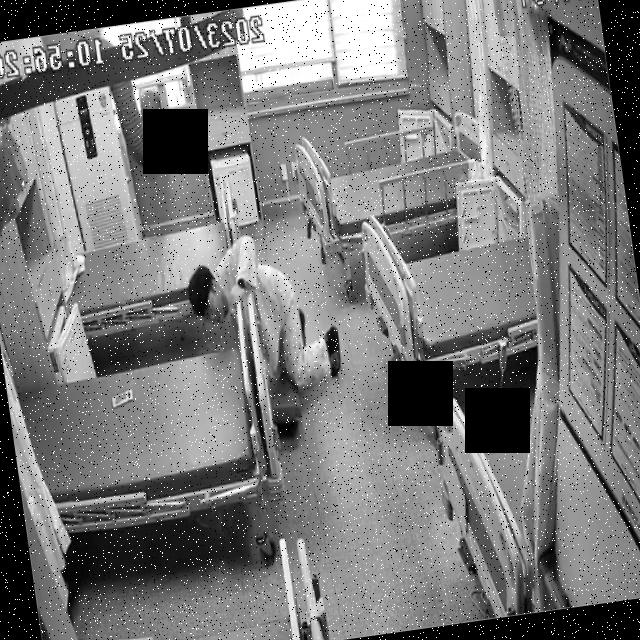bed: (13, 338, 269, 542), (352, 194, 547, 392), (294, 110, 494, 256), (54, 194, 250, 340)
fall: (179, 223, 346, 427)
patient: (177, 222, 346, 428)
